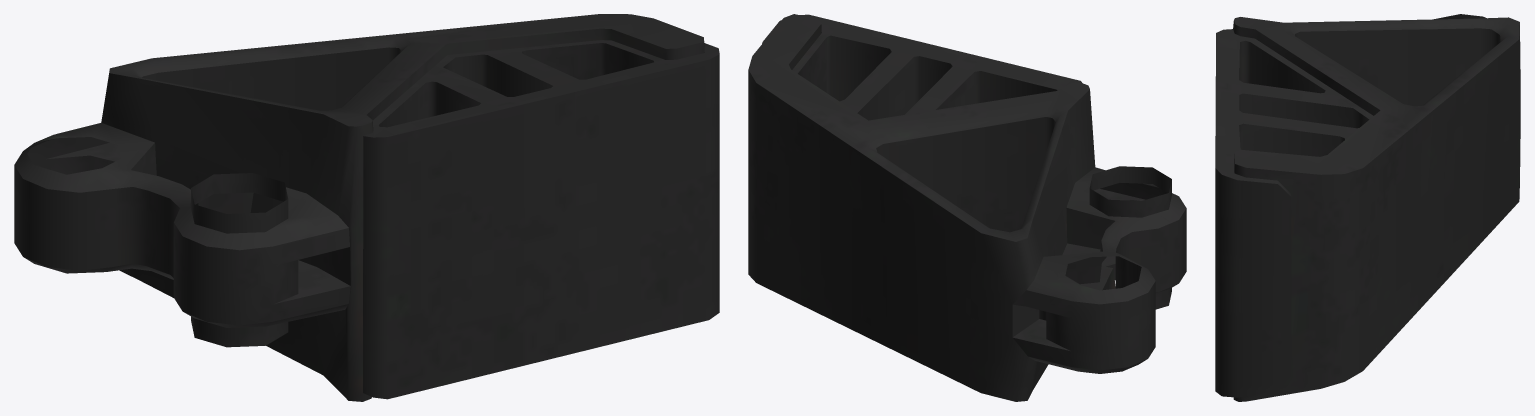
The model's file is gripper_left_5.dae.
The picture shows the model from 3 angles, left to right: view 1: azimuth 30°, elevation 25°; view 2: azimuth 150°, elevation 25°; view 3: azimuth 270°, elevation 25°; orthographic projection. The views are drawn at different scales.
Parts seen in each view (by area): view 1: gripper_left_5; view 2: gripper_left_5; view 3: gripper_left_5.
Part boxes in pixels (left/top/right/bottom): gripper_left_5: left=14, top=14, right=719, bottom=401; gripper_left_5: left=748, top=14, right=1186, bottom=401; gripper_left_5: left=1215, top=14, right=1520, bottom=401.
Size of the model in its own units: 0.047 by 0.0256 by 0.022.
